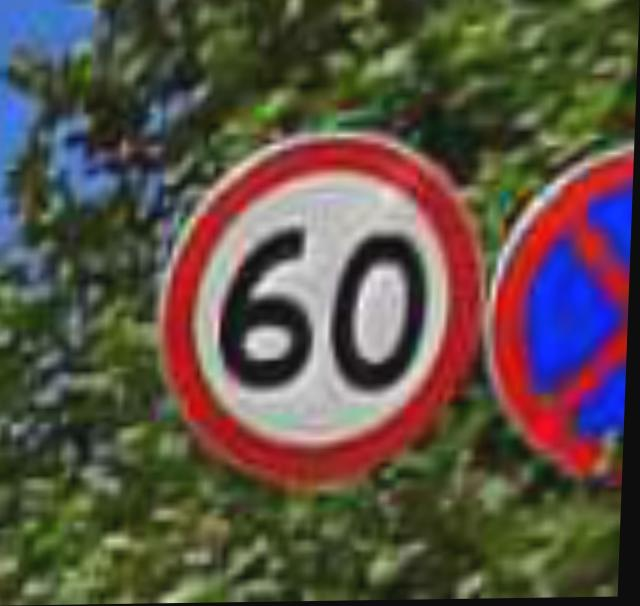limit60: (139, 129, 499, 493)
